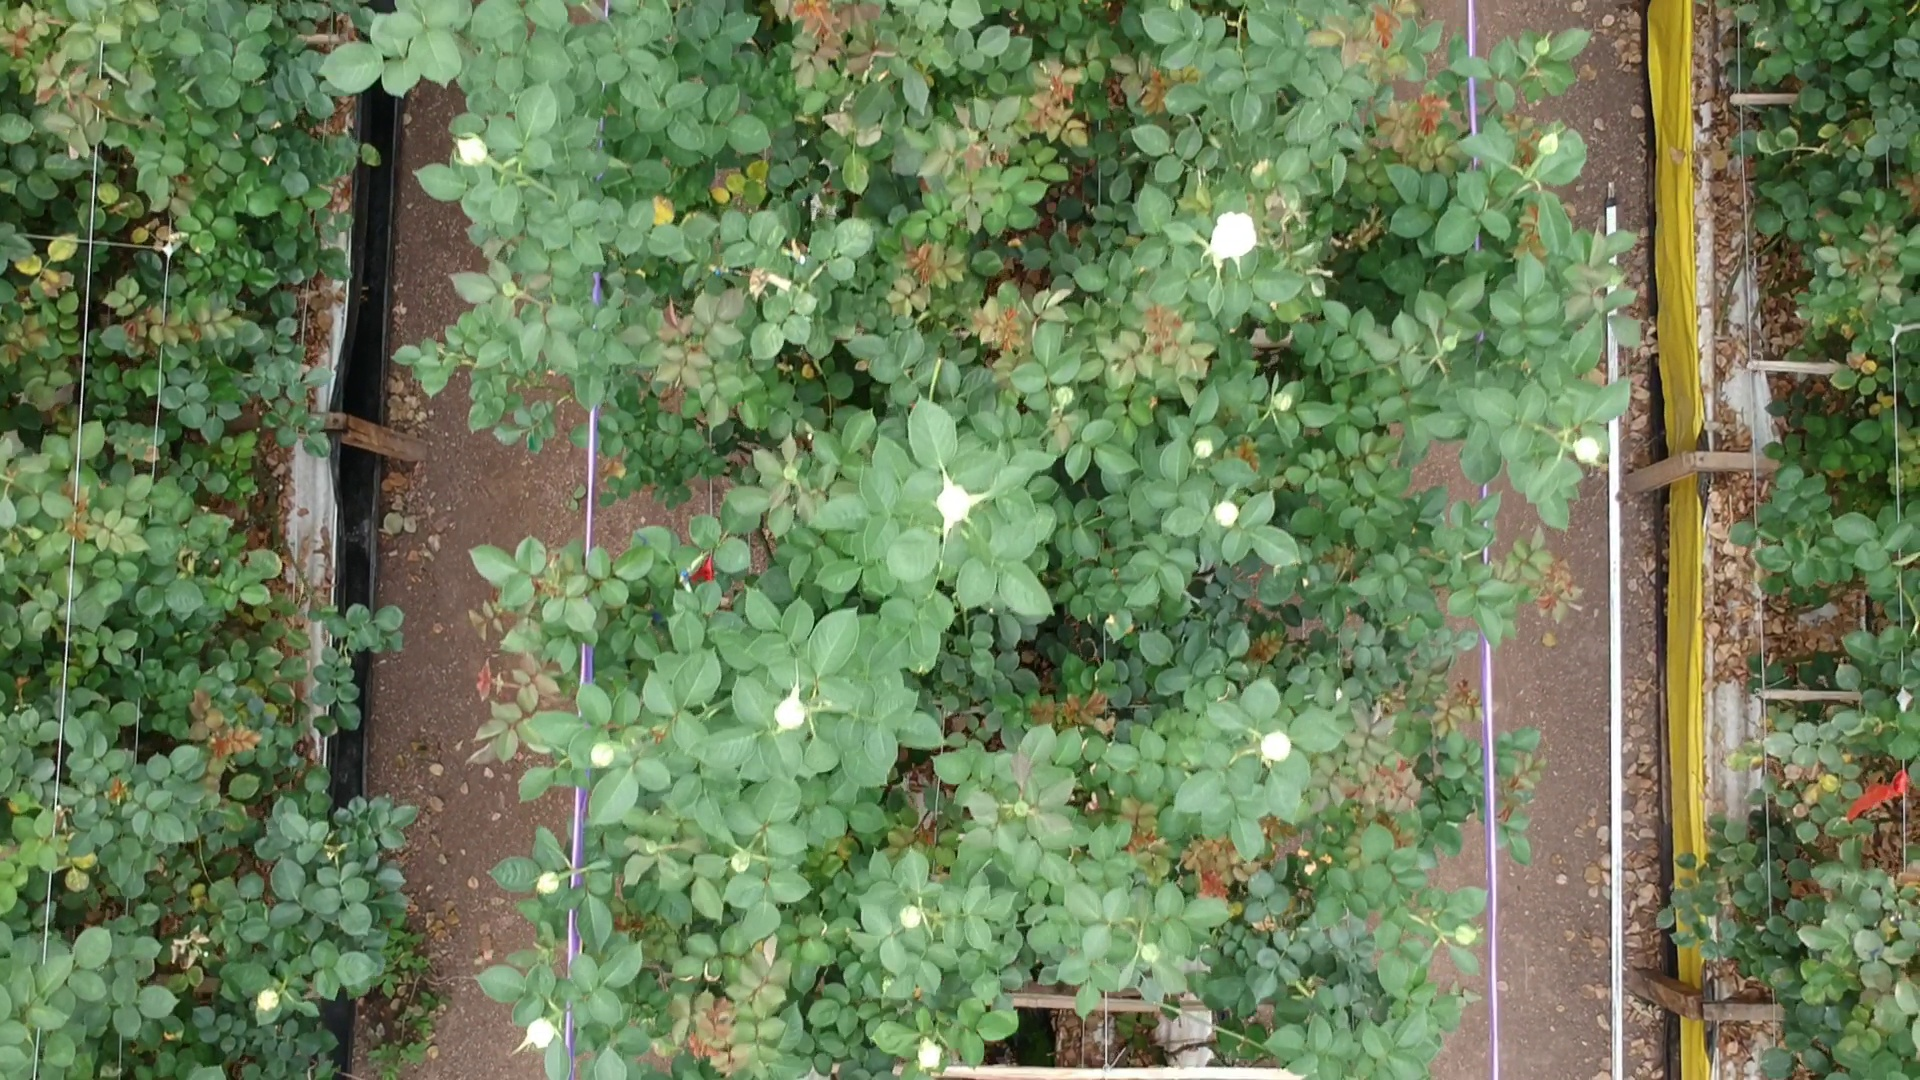P2: (1404, 83, 1455, 142)
P2_1: (1183, 827, 1247, 910), (1033, 680, 1122, 735)
P5: (475, 262, 567, 320), (748, 436, 816, 513)
P5_1: (1509, 109, 1584, 196)
P6: (506, 825, 609, 924), (509, 975, 601, 1067), (227, 959, 316, 1022), (887, 1011, 953, 1079)
